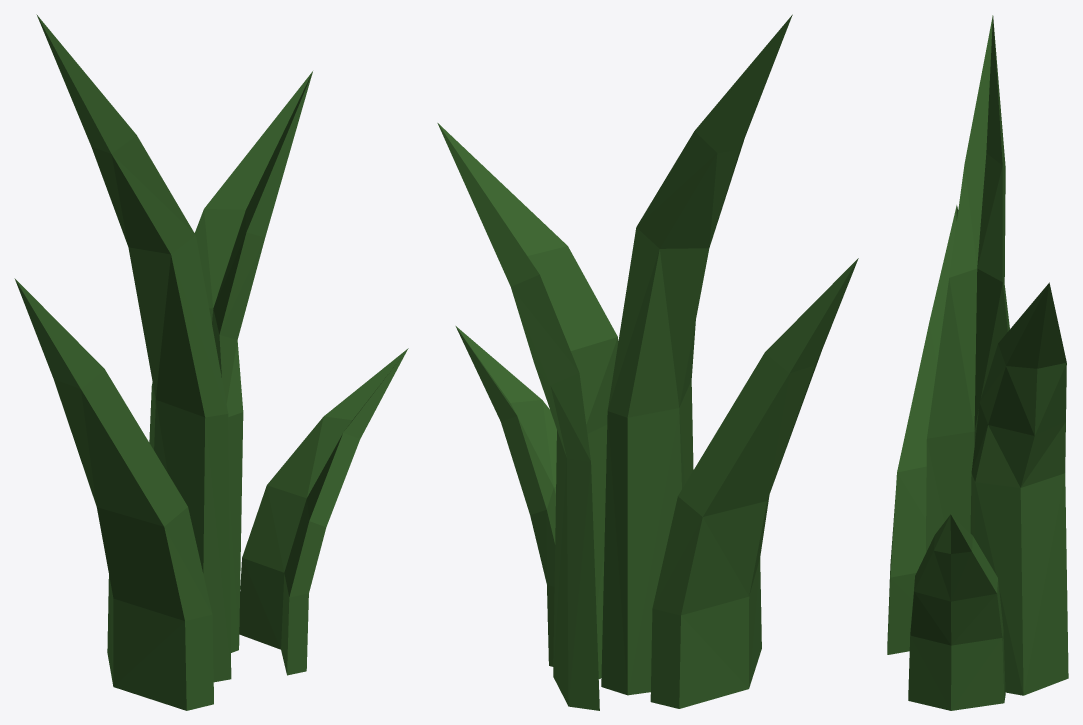
Rendered from grass_2.fbx.
The picture shows the model from 3 angles, left to right: view 1: azimuth 30°, elevation 25°; view 2: azimuth 150°, elevation 25°; view 3: azimuth 270°, elevation 25°; orthographic projection. The views are drawn at different scales.
Visible parts, largest first — view 1: grass_2; view 2: grass_2; view 3: grass_2.
Part boxes in pixels (x1=…): grass_2: x1=14, y1=14, x2=408, y2=710; grass_2: x1=437, y1=14, x2=858, y2=710; grass_2: x1=887, y1=15, x2=1068, y2=710.
Bounding box in the file's own units: 0.6431 × 1.06 × 0.2948.
